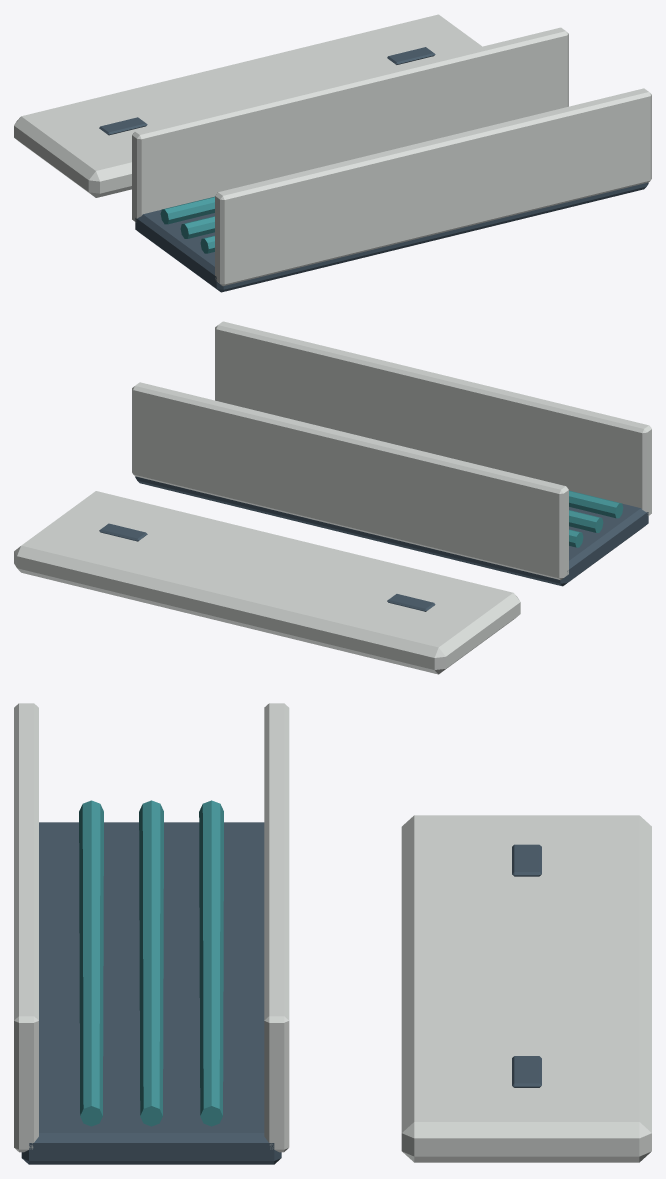
3 views of the same model, one above another, from view 1: azimuth 30°, elevation 25°; view 2: azimuth 150°, elevation 25°; view 3: azimuth 270°, elevation 25° (orthographic). The views are drawn at different scales.
Visible parts, largest first — view 1: ME-019 Open utility trench with cover batched; view 2: ME-019 Open utility trench with cover batched; view 3: ME-019 Open utility trench with cover batched.
Boxes of the visible parts, x1,y1,x2,y2 form: ME-019 Open utility trench with cover batched: (14,14,651,292); ME-019 Open utility trench with cover batched: (14,321,651,674); ME-019 Open utility trench with cover batched: (14,703,651,1164).
Bounding box in the file's own units: 1.5 × 0.33 × 1.28.
